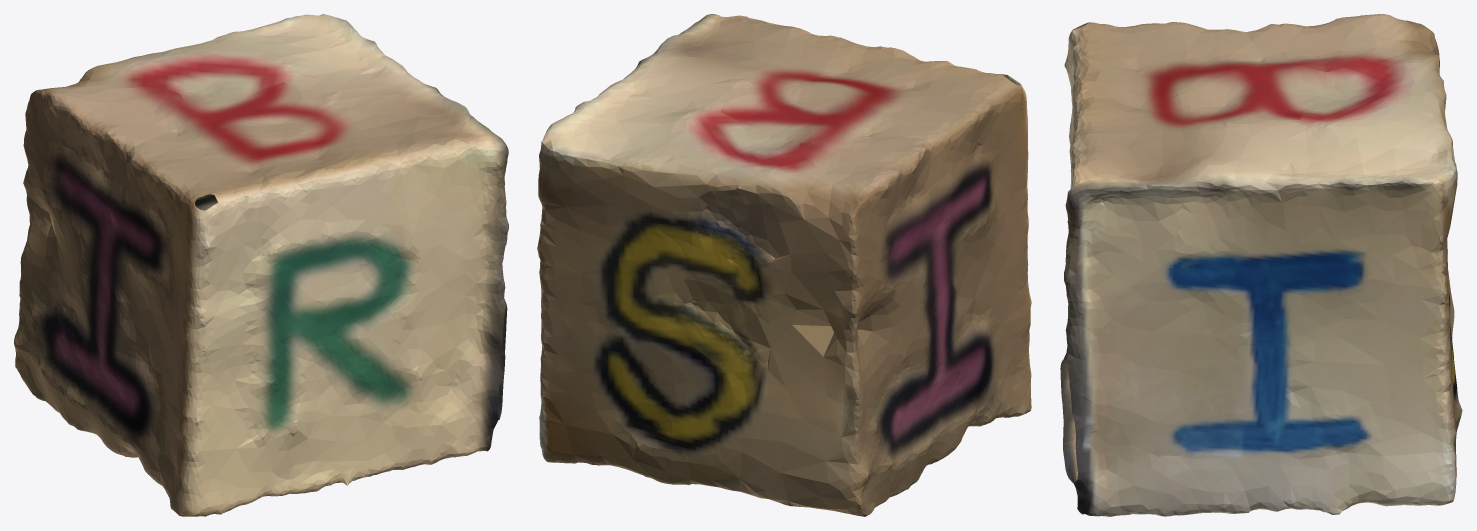
3 renders of one model, left to right at view 1: azimuth 30°, elevation 25°; view 2: azimuth 150°, elevation 25°; view 3: azimuth 270°, elevation 25°, orthographic. The views are drawn at different scales.
Bounding box in the file's own units: 0.0716 × 0.0693 × 0.0717.
1 material, 1 textured.
